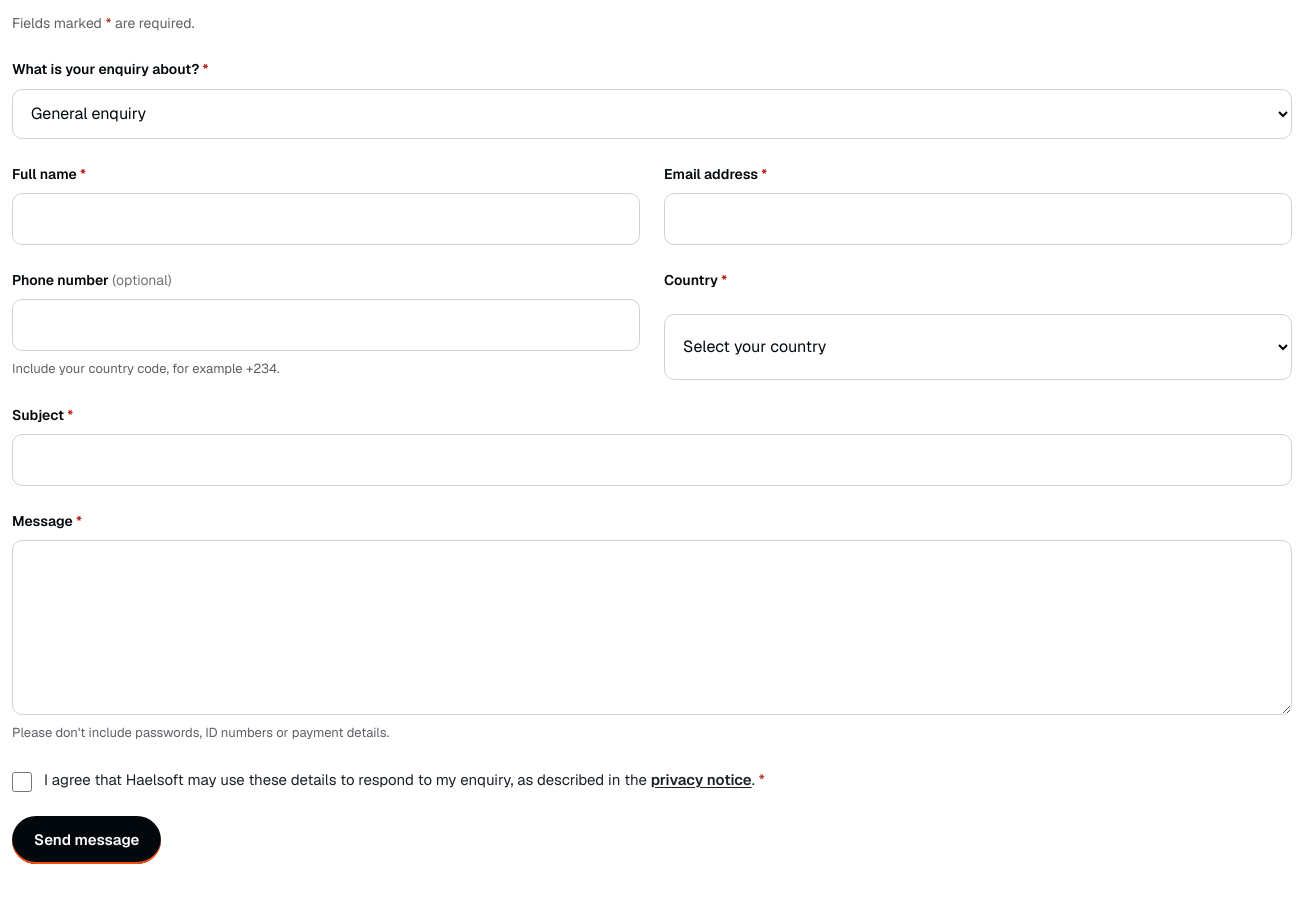
Scenario: ContactForm › confirms success only after the API accepts the message
The image size is (1304, 912).
In the field labelled "Full name *": (326,219) [12, 193, 640, 245], type "Ada Obi"
In the field labelled "Email address *": (978,219) [664, 193, 1292, 245], type "ada@example.com"
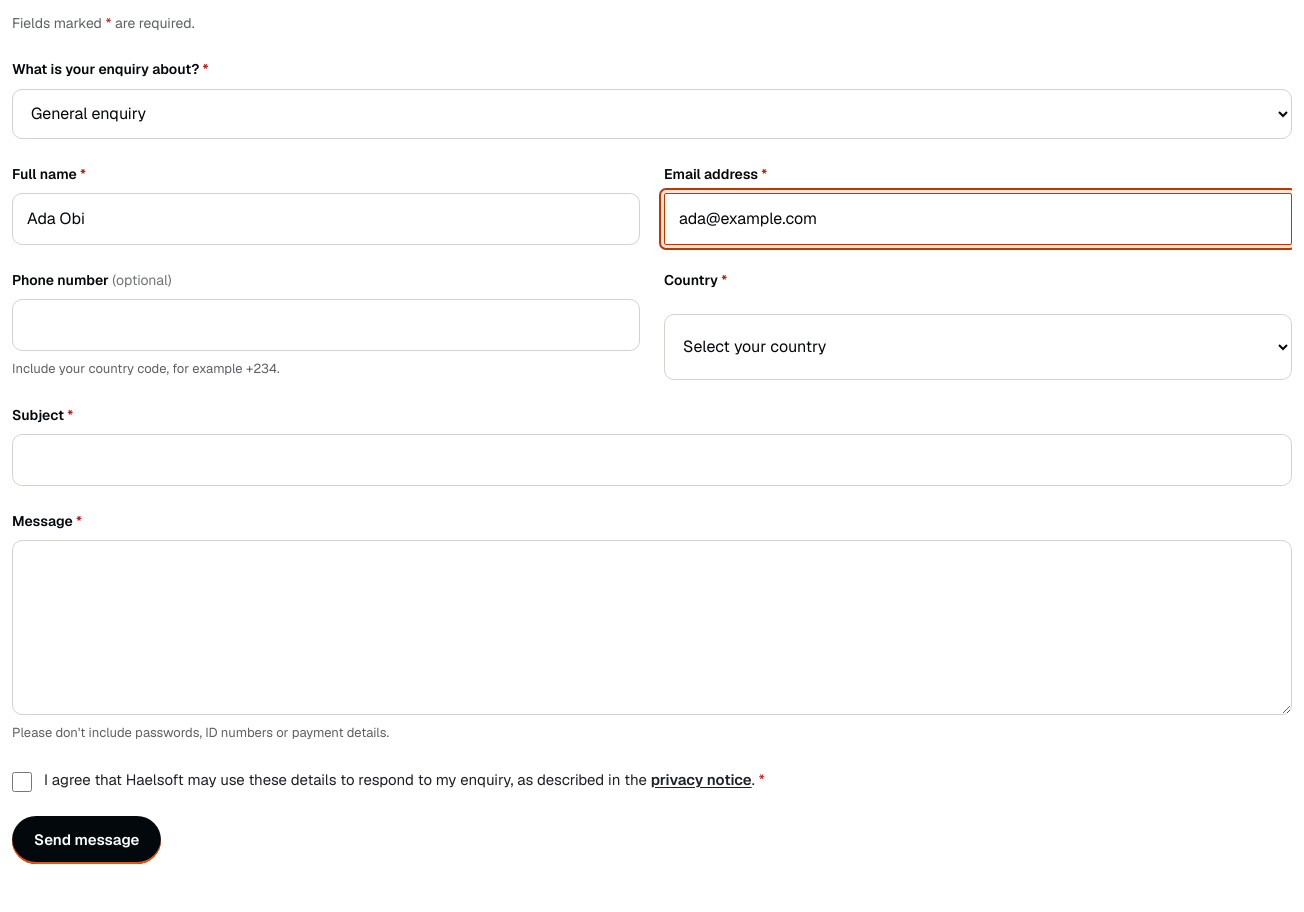
Select "Kenya" in the dropdown labelled "Country *": (978,347) [664, 314, 1292, 380]
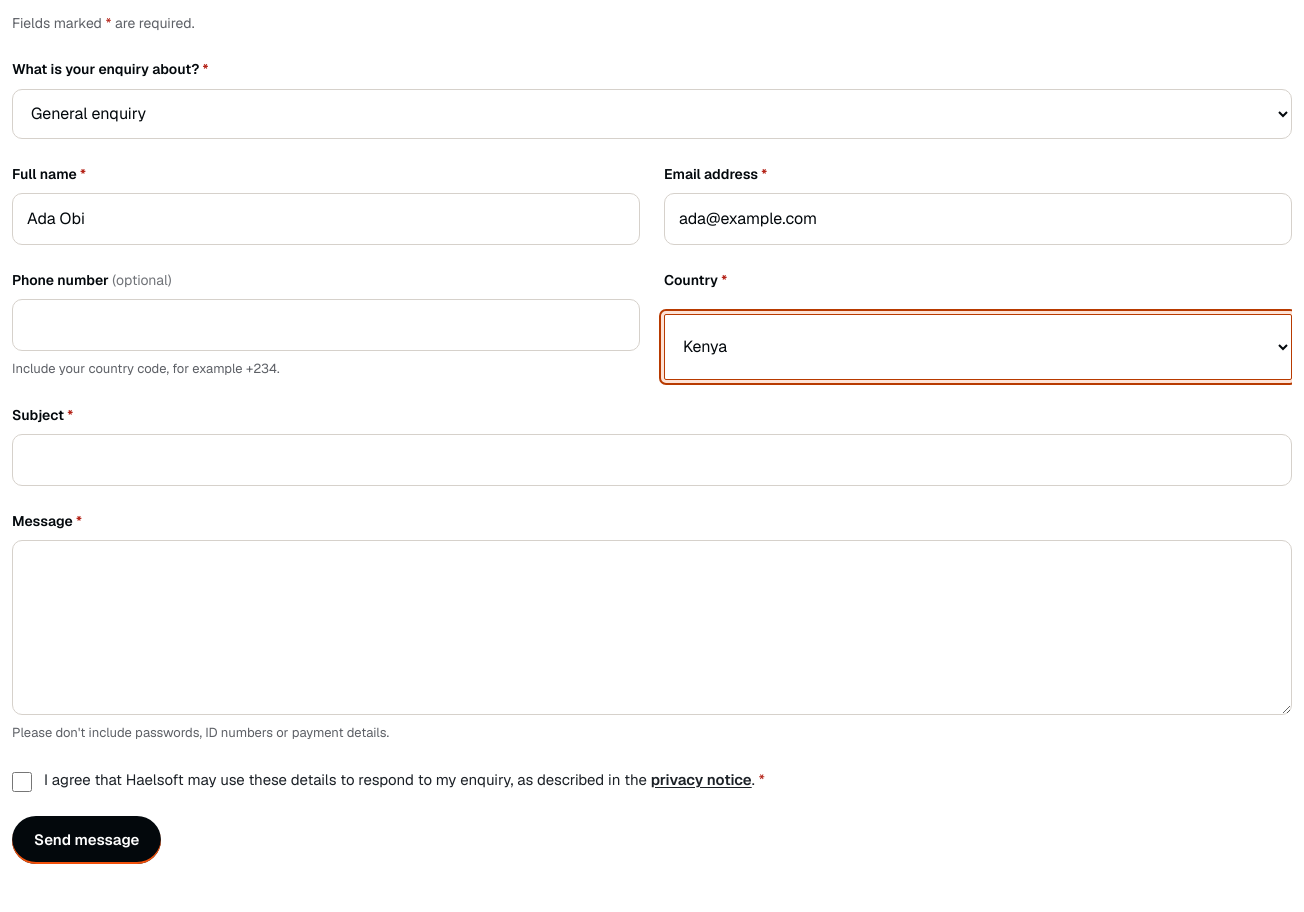
In the field labelled "Subject *": (652,460) [12, 434, 1292, 486], type "Course updates"
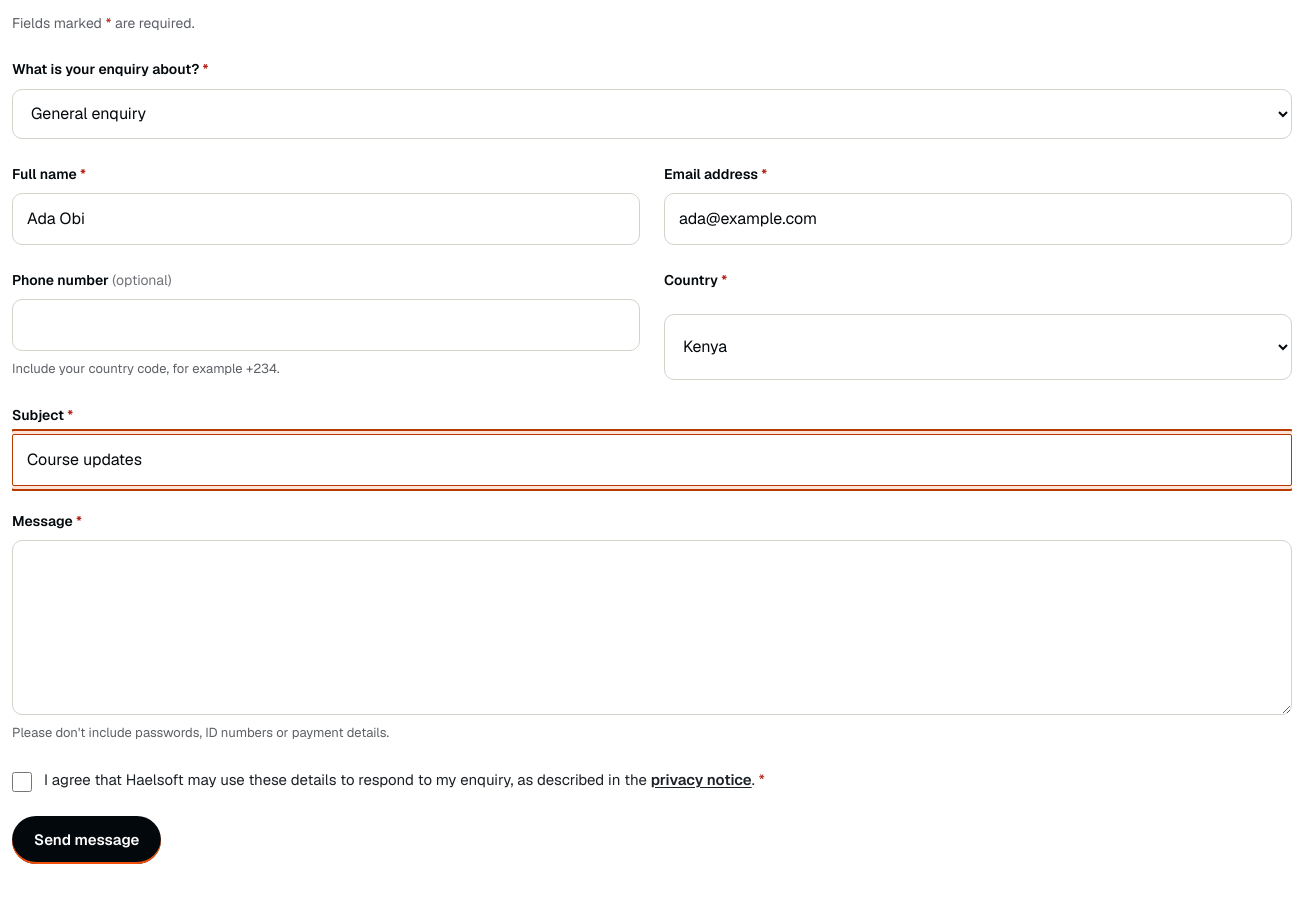
In the text box labelled "Message *": (652,627) [12, 540, 1292, 715], type "Please tell me when the data courses open."
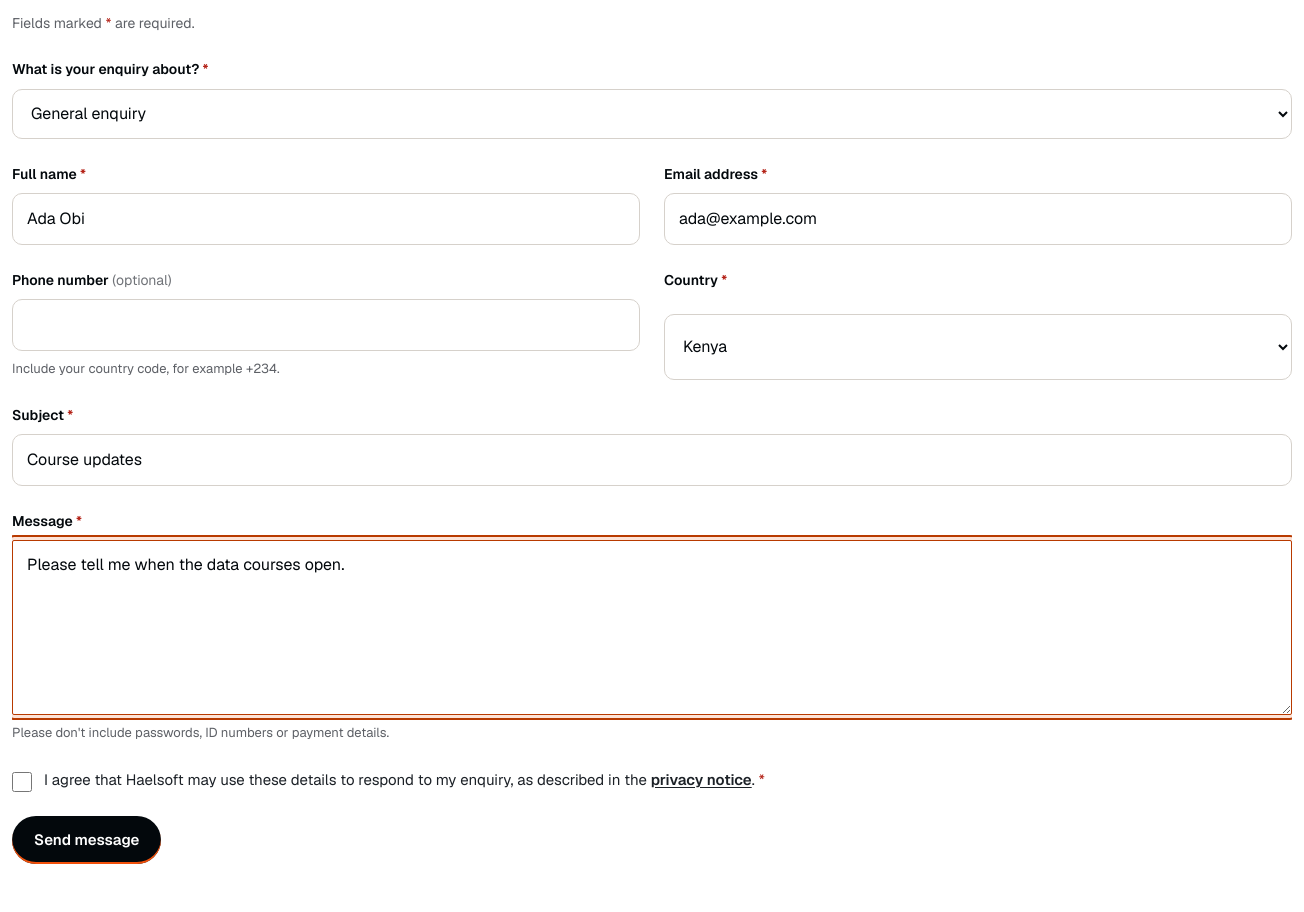
Click the checkbox: (22,782) [12, 772, 32, 792]
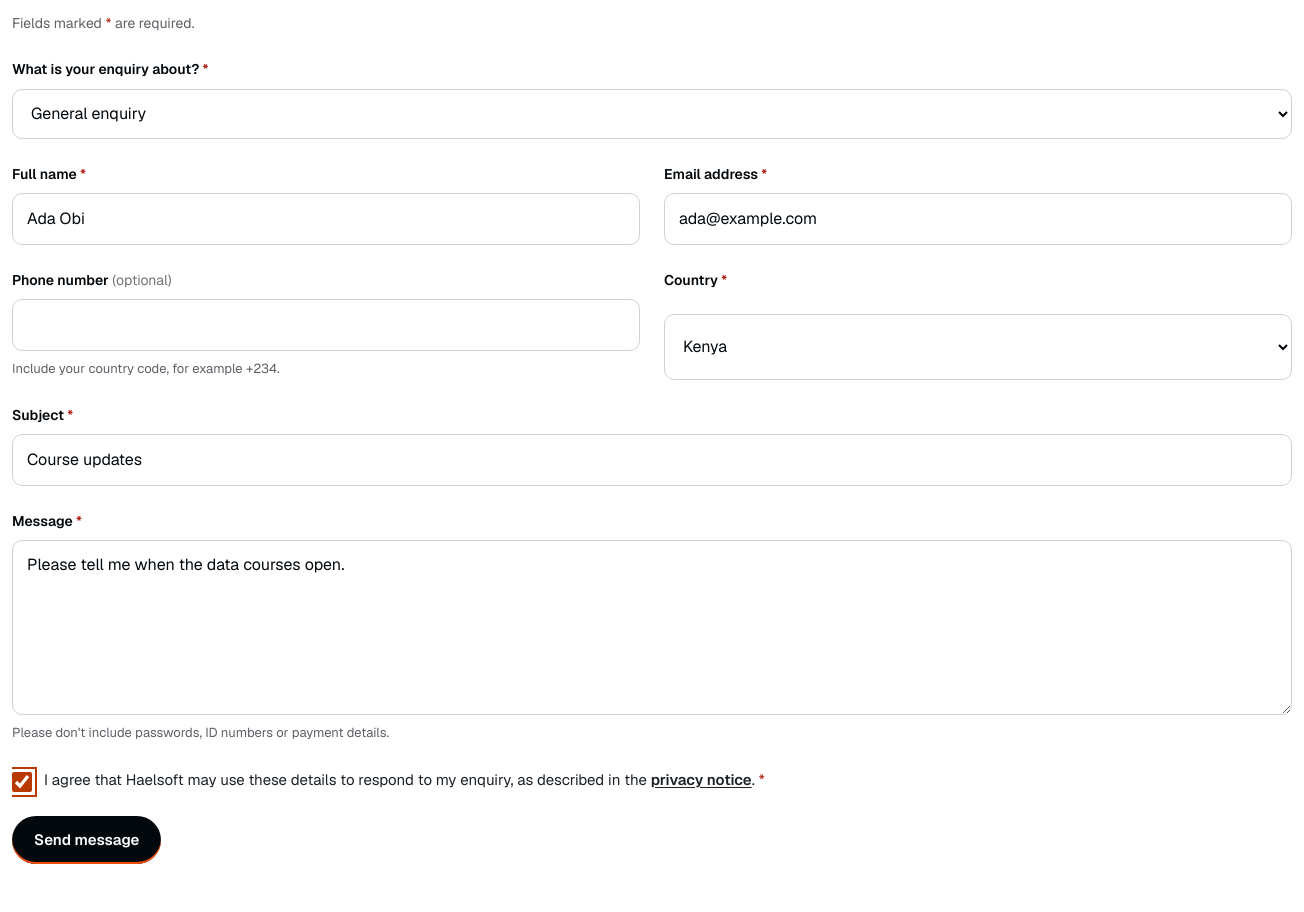
Click the button "Send message": (87,840) [12, 816, 162, 864]
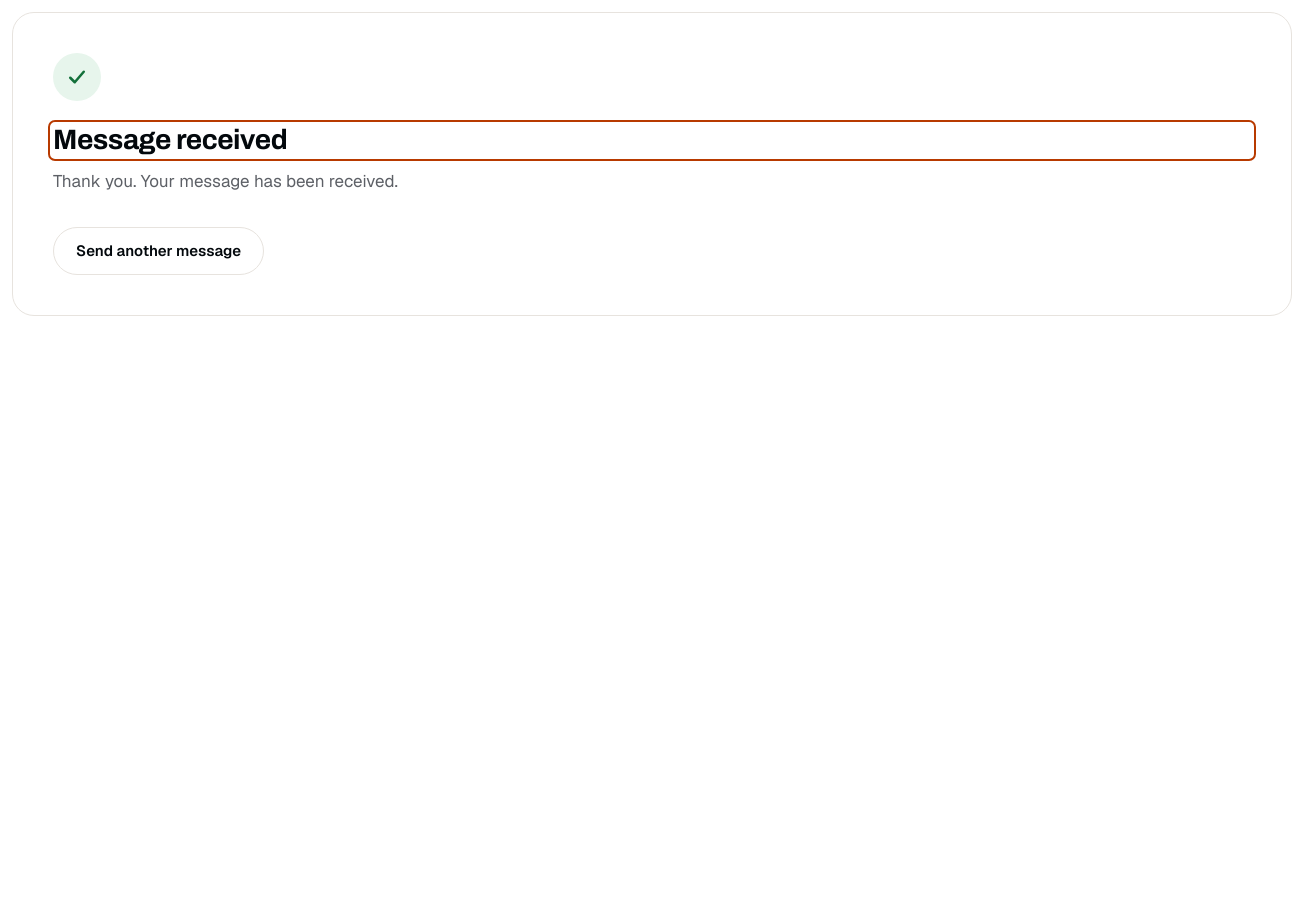
Expected: the heading "Message received" is shown, [53, 124, 287, 155]
Expected: the message shows "Thank you. Your message has been received.", [53, 170, 398, 192]
